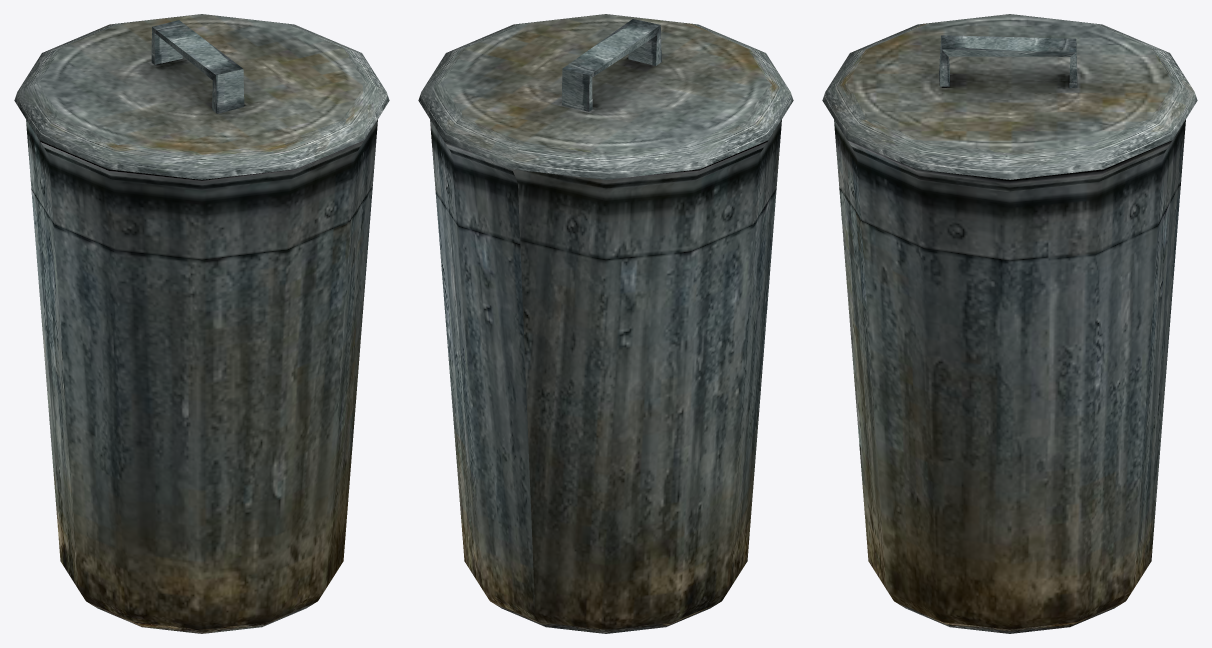
Rendered from trash.FBX.
3 views of the same model, side by side, from view 1: azimuth 30°, elevation 25°; view 2: azimuth 150°, elevation 25°; view 3: azimuth 270°, elevation 25° (orthographic).
Parts seen in each view (by area): view 1: Cylinder001; view 2: Cylinder001; view 3: Cylinder001.
Boxes of the visible parts, left/top/right/bottom form: Cylinder001: left=14, top=14, right=389, bottom=633; Cylinder001: left=418, top=14, right=793, bottom=633; Cylinder001: left=822, top=14, right=1197, bottom=633.
Size of the model in its own units: 8.77 by 14.14 by 8.77.
